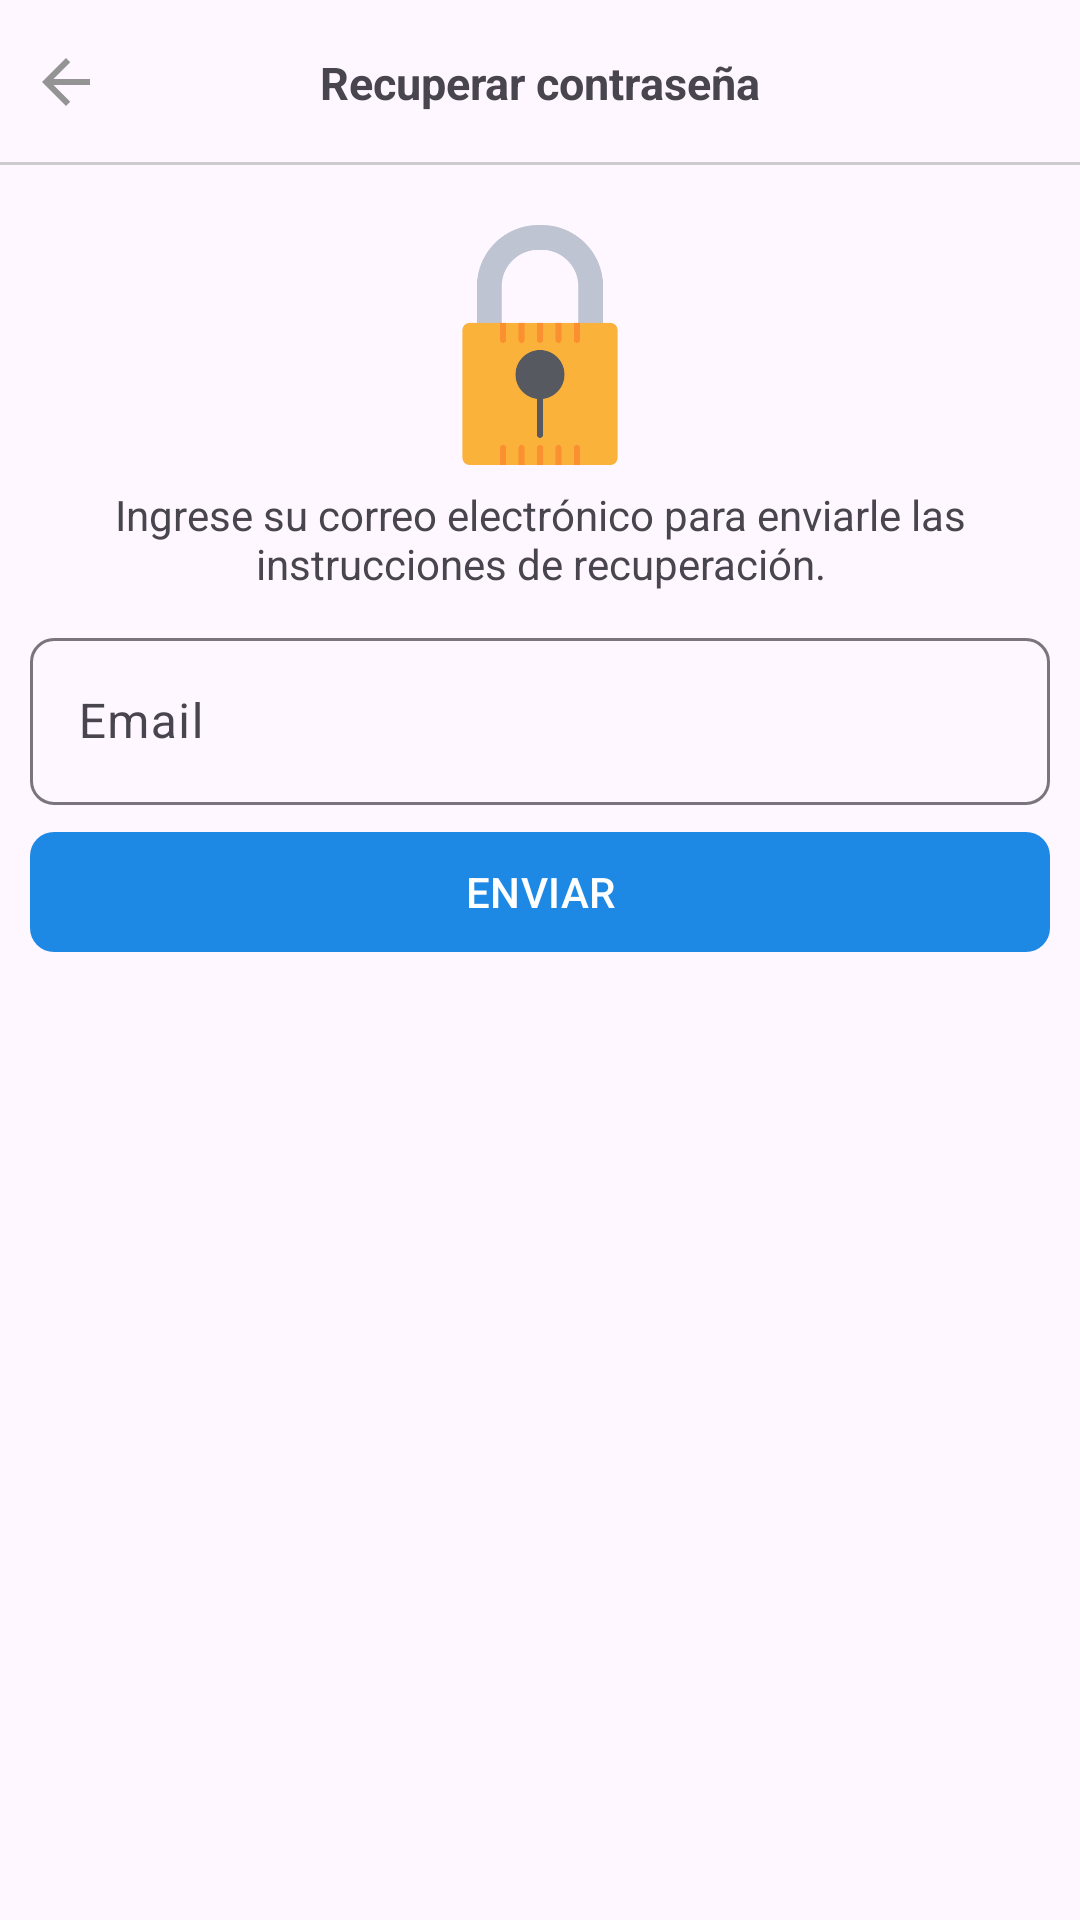

Where to tap for icons on this 1080×1920 app screen, as (x,y):
password: (540,345)
regresar: (66,82)
